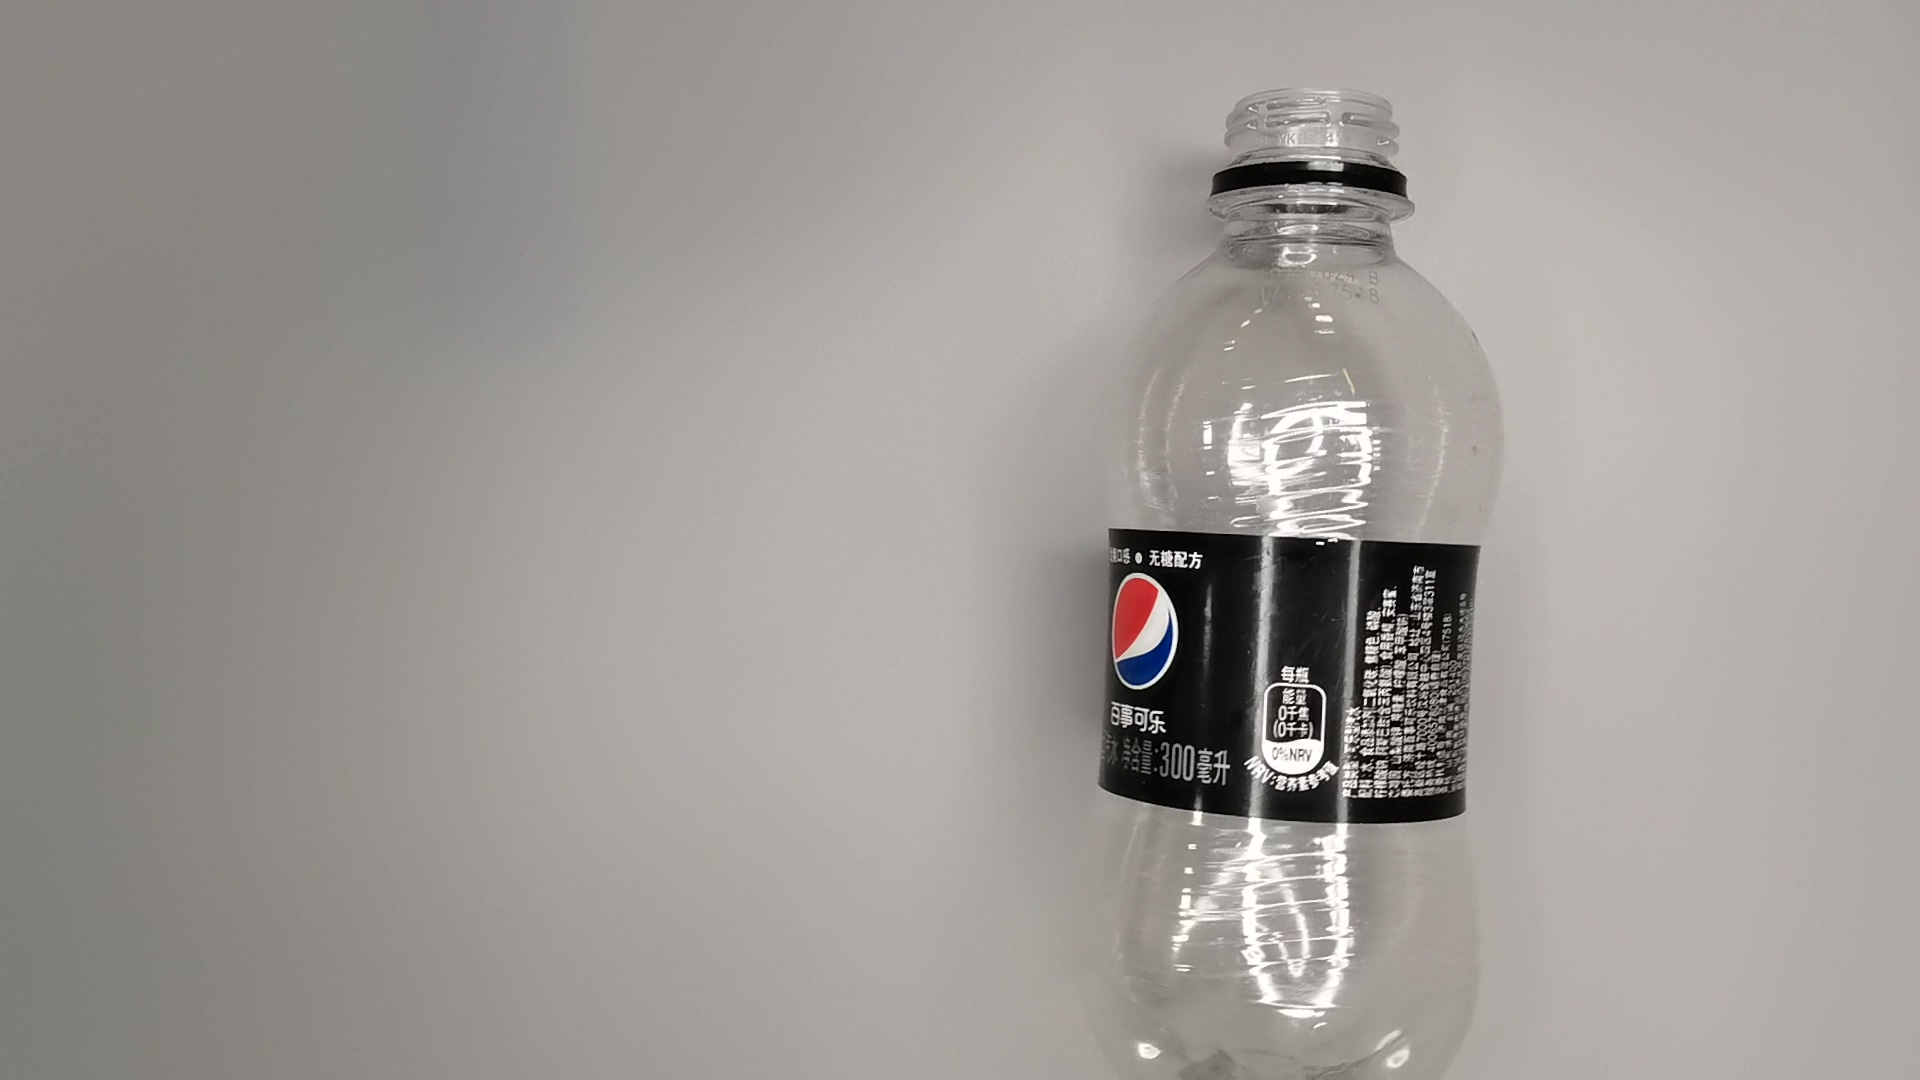bottle: (1075, 82, 1495, 1080)
